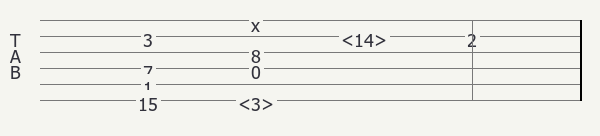0: (251, 60, 265, 77)
1: (143, 76, 157, 93)
15: (138, 92, 162, 109)
2: (467, 28, 481, 45)
3: (143, 28, 157, 45)
7: (143, 60, 157, 77)
8: (251, 44, 265, 61)
harmonic: (341, 28, 391, 45), (238, 92, 278, 109)
x: (251, 13, 264, 27)
